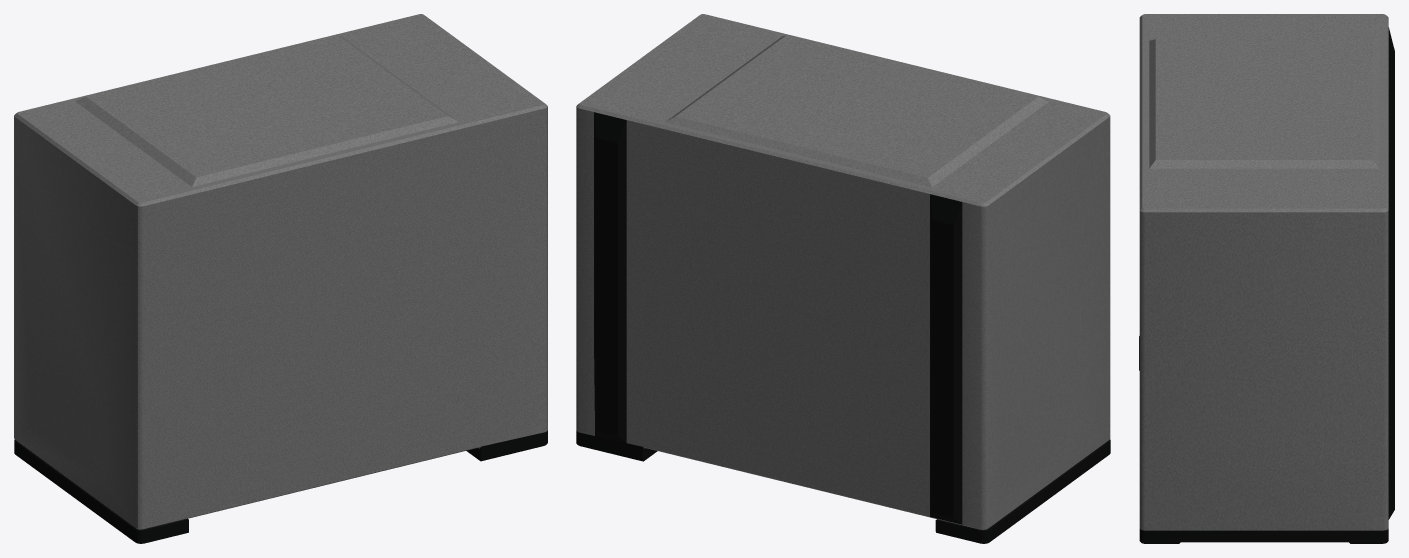
File: body001.obj
3 views of the same model, side by side, from view 1: azimuth 30°, elevation 25°; view 2: azimuth 150°, elevation 25°; view 3: azimuth 270°, elevation 25° (orthographic).
Parts seen in each view (by area): view 1: Microwave011_Body001; view 2: Microwave011_Body001; view 3: Microwave011_Body001.
Part boxes in pixels (x1,y1,x2,y2): Microwave011_Body001: (14, 14, 547, 543); Microwave011_Body001: (576, 14, 1110, 543); Microwave011_Body001: (1139, 14, 1394, 543).
Size of the model in its own units: 0.5691 by 0.4571 by 0.3117.
Materials: 1 (1 with a texture image).
